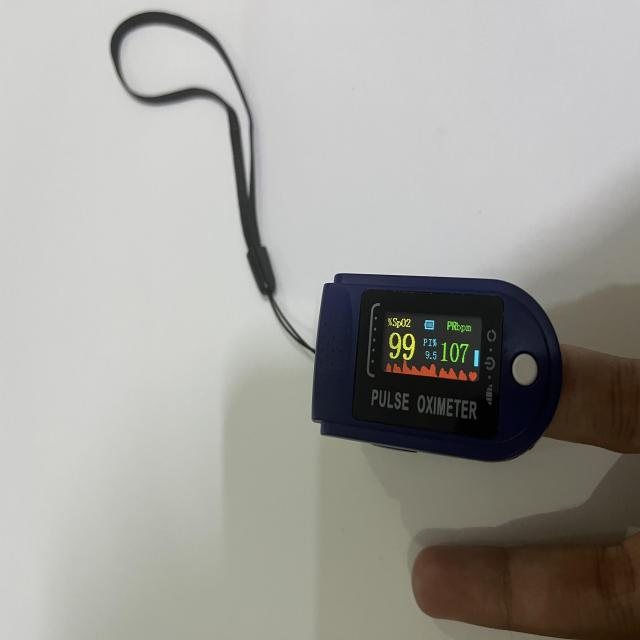spo2: (316, 276, 560, 462)
